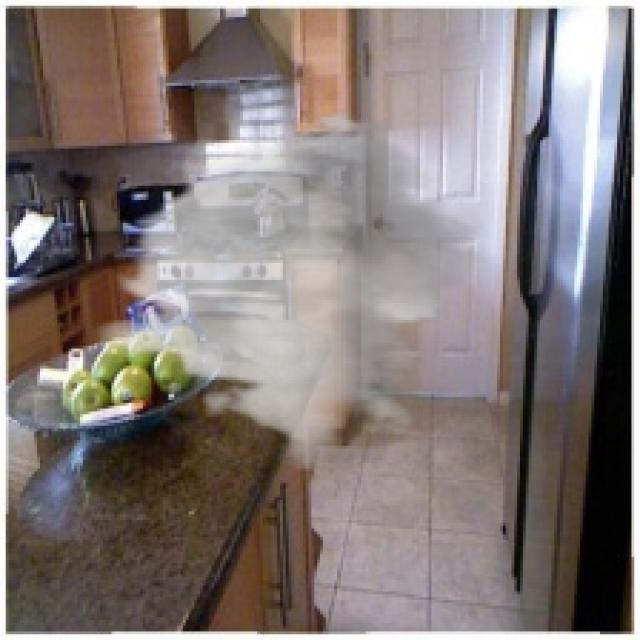smoke: (89, 109, 488, 474)
